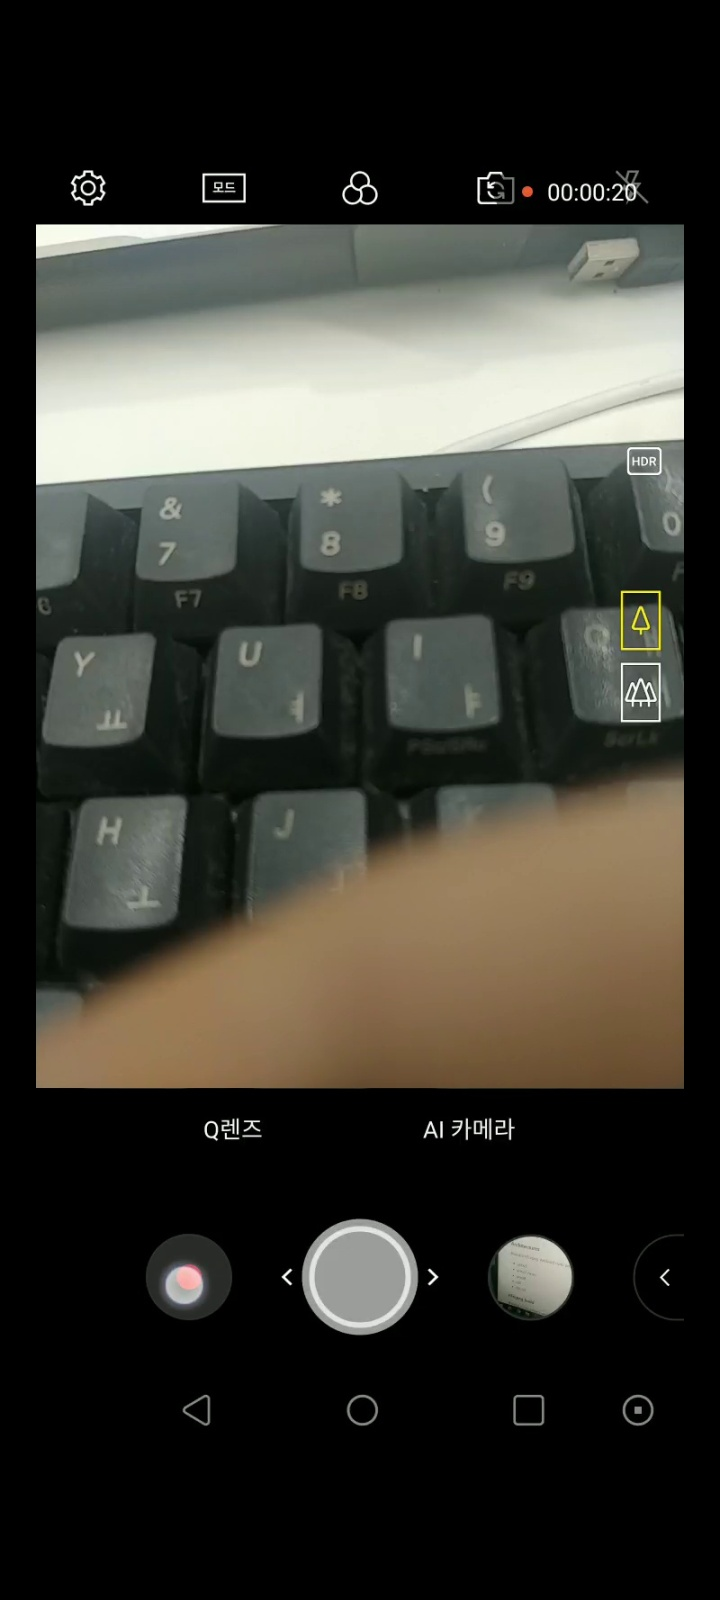Cursor: (162, 1266, 207, 1311)
